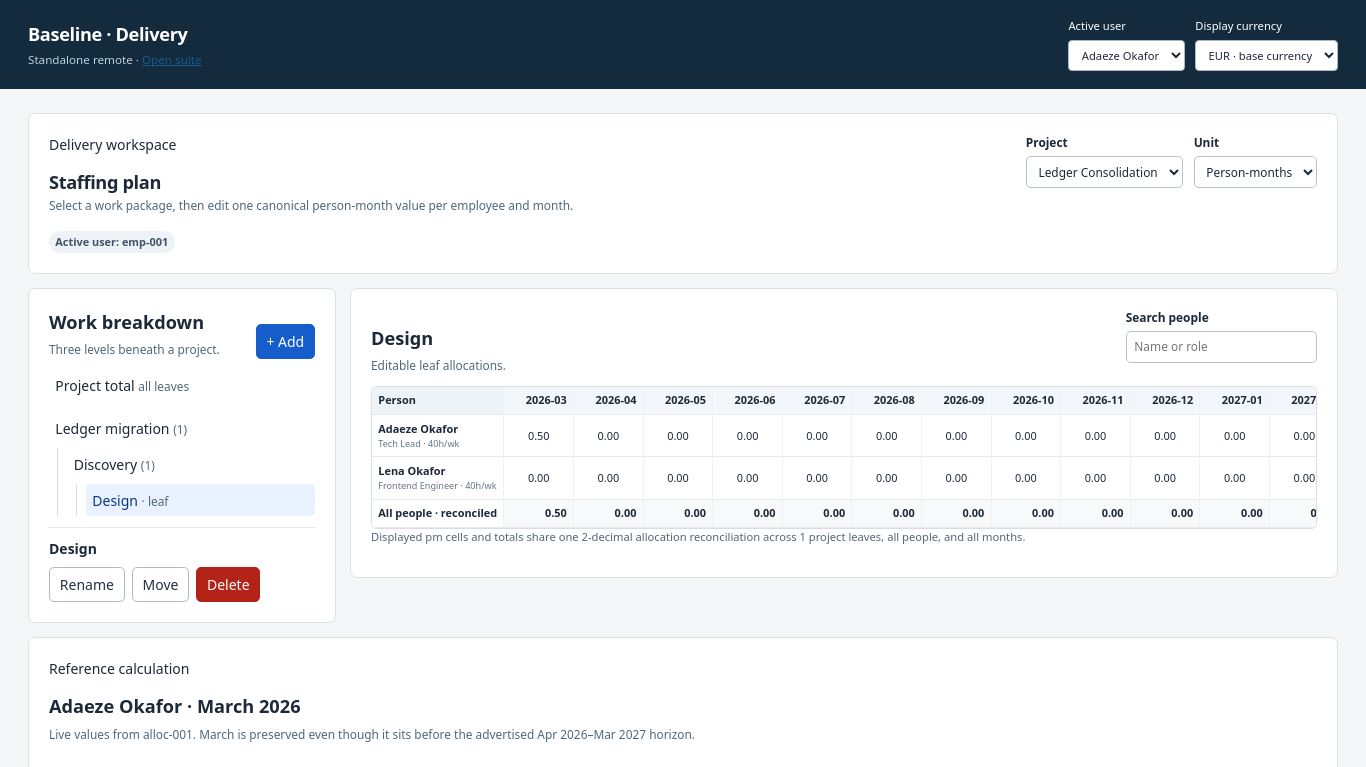
Test case: standalone adapters and hosted integration › refuses a delete whose dialog target disappeared instead of deleting the fallback selection
Click the button "Design · leaf": point(200, 500) [86, 484, 315, 516]
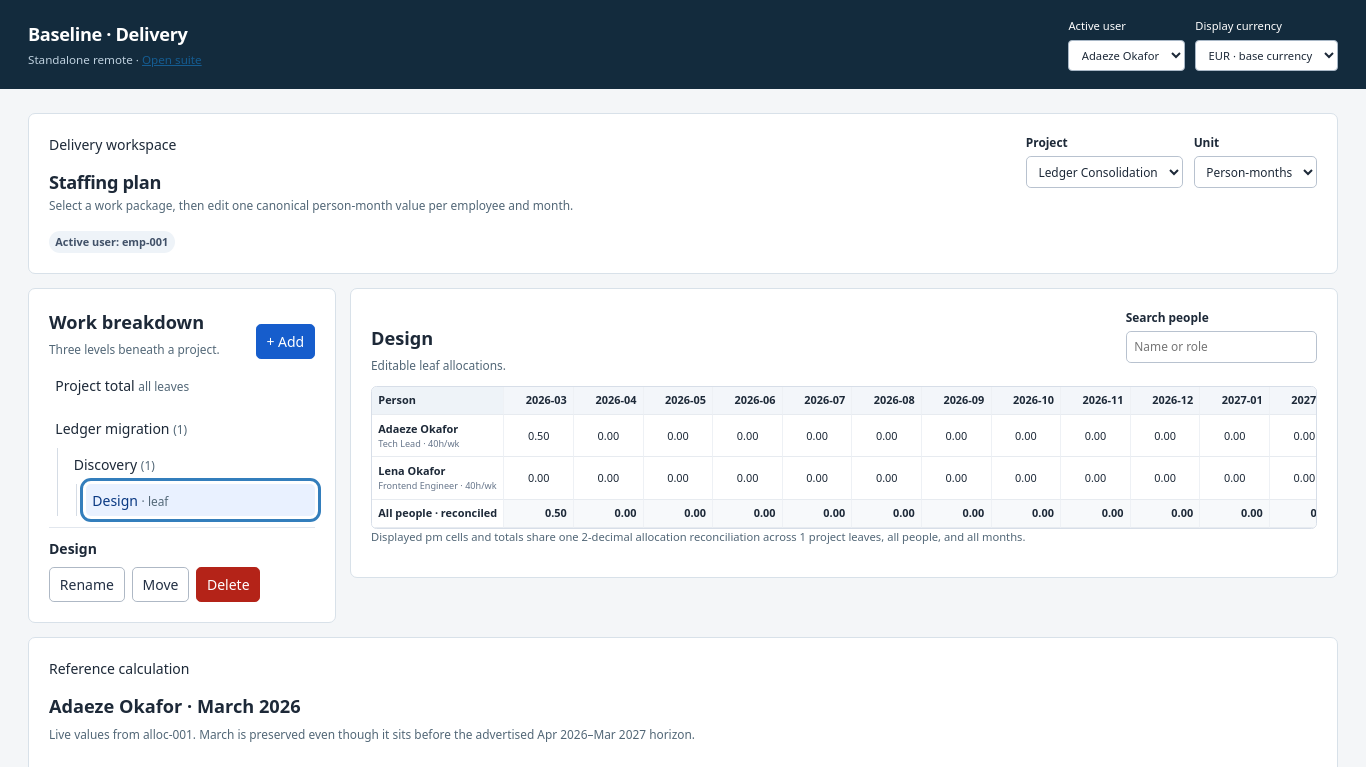
Click the button "Delete": point(228, 585) [196, 567, 260, 602]
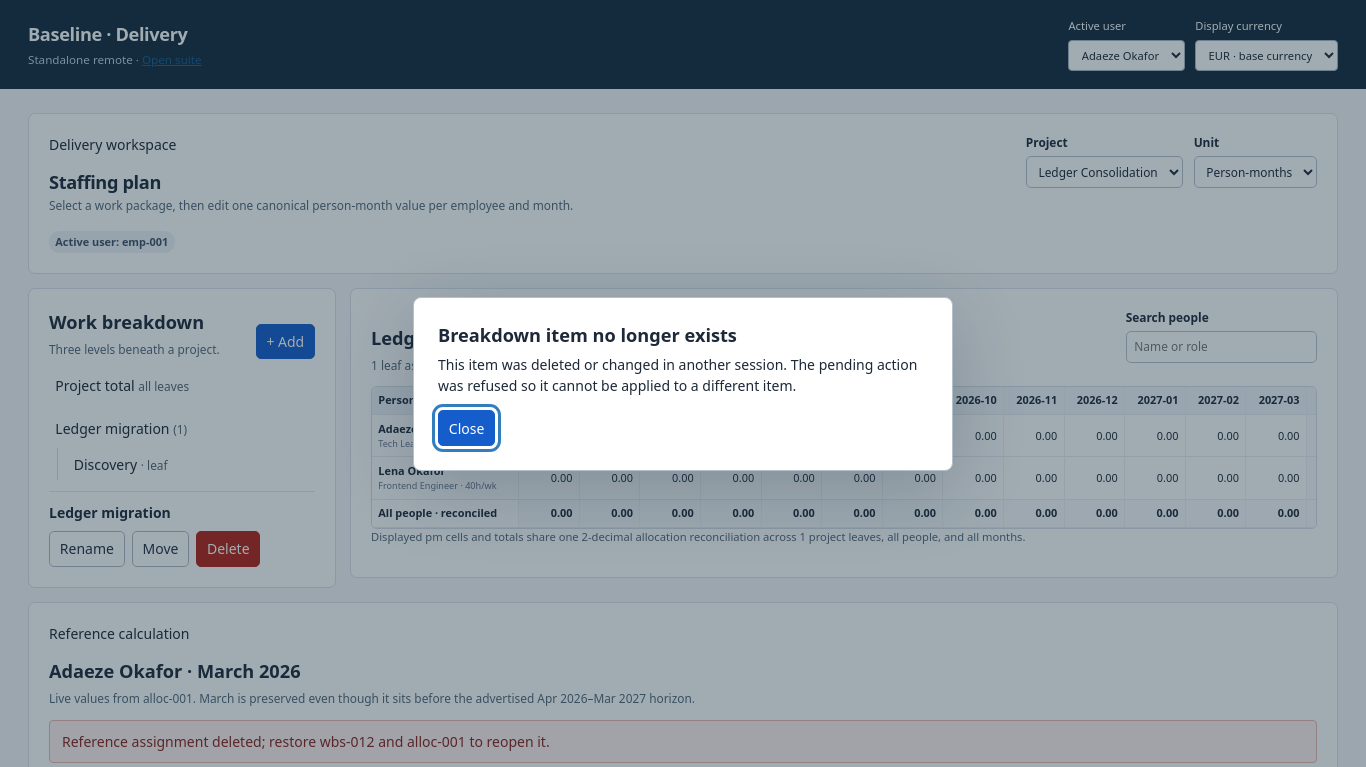
Check: the dialog "Breakdown item no longer exists" is shown, box [413, 297, 953, 471]
Check: the text "Ledger migration" is shown, box [49, 503, 171, 522]
